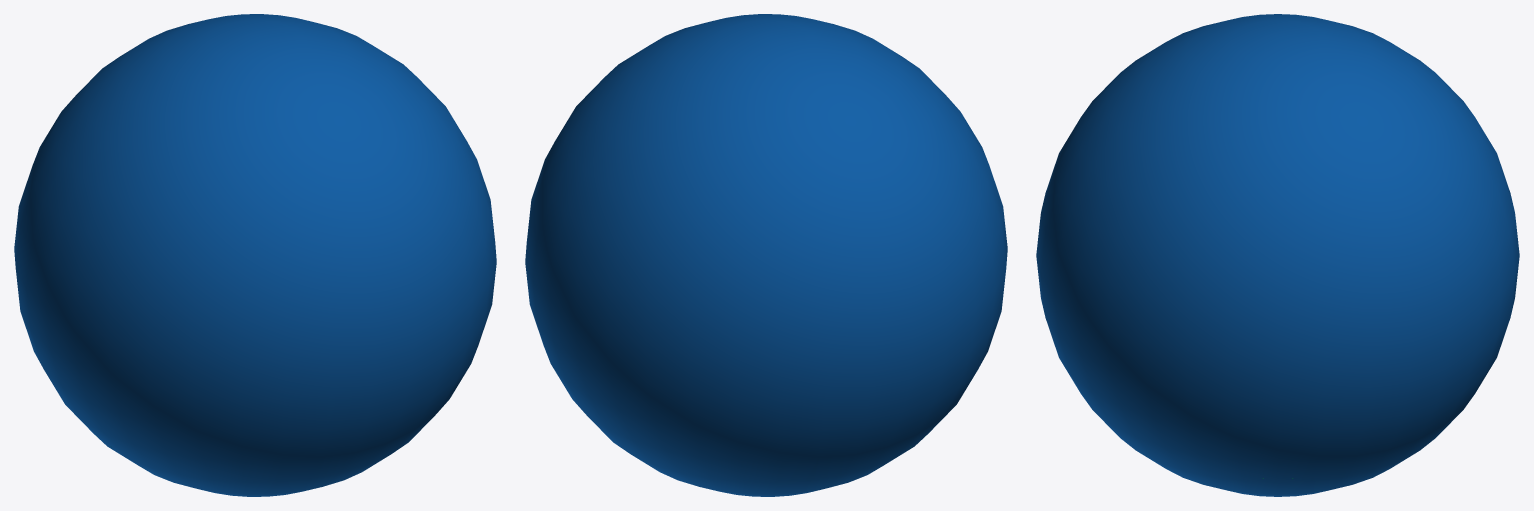
The model's file is FireRate_PickUp.FBX.
The picture shows the model from 3 angles, left to right: view 1: azimuth 30°, elevation 25°; view 2: azimuth 150°, elevation 25°; view 3: azimuth 270°, elevation 25°; orthographic projection.
Visible parts, largest first — view 1: Sphere001; view 2: Sphere001; view 3: Sphere001.
Boxes of the visible parts, x1=… form: Sphere001: x1=14, y1=14, x2=496, y2=496; Sphere001: x1=525, y1=14, x2=1007, y2=496; Sphere001: x1=1036, y1=14, x2=1519, y2=496.
Bounding box in the file's own units: 124 × 124 × 124.
